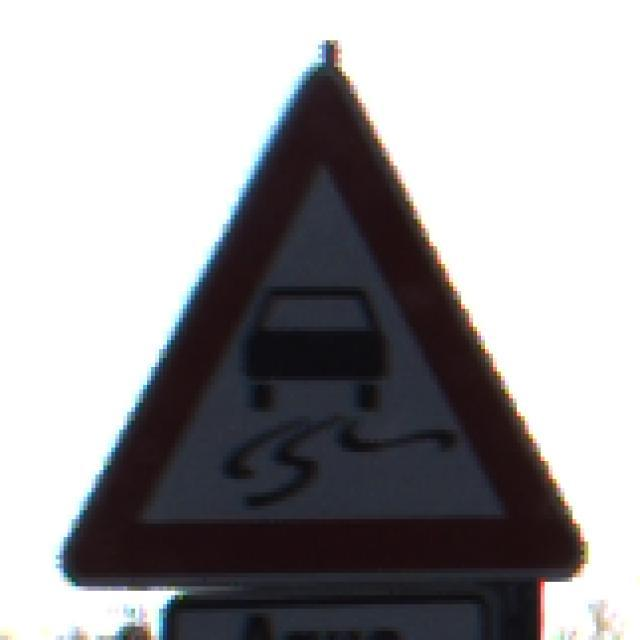slippery road: (58, 56, 589, 582)
